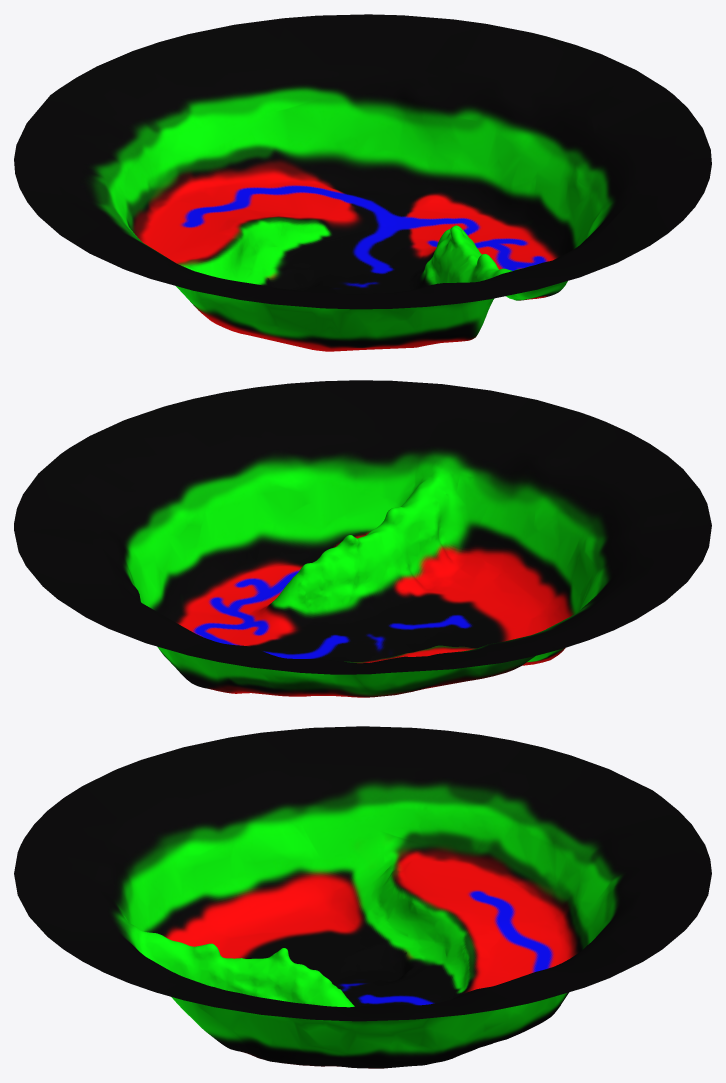
Rendered from enviroment.glb.
3 views of the same model, one above another, from view 1: azimuth 30°, elevation 25°; view 2: azimuth 150°, elevation 25°; view 3: azimuth 270°, elevation 25° (orthographic).
Parts seen in each view (by area): view 1: terrain; view 2: terrain; view 3: terrain.
Part boxes in pixels (x1,y1,x2,y2): terrain: (14,14,711,351); terrain: (14,380,711,697); terrain: (14,726,711,1068).
Size of what is drawn, in the model's own units: 817 by 168 by 817.
Materials: 1 (1 with a texture image).
